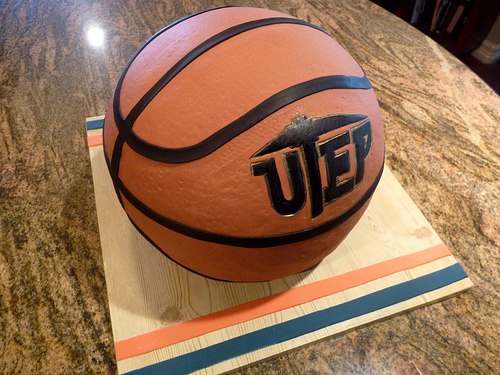basketball: (103, 6, 386, 284)
